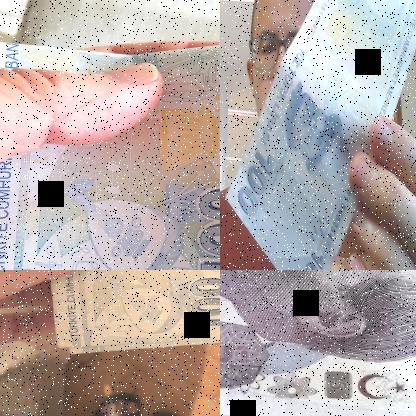5 TL: (0, 37, 219, 269)
